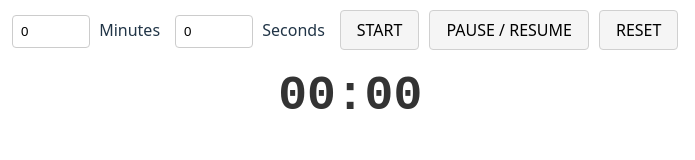
RunningClock › should handle 65 seconds as 02:05
This screenshot has width=695, height=160.
Replace the text in the number field labelled "Minutes" with "1" at (51, 32), box [12, 15, 90, 48]
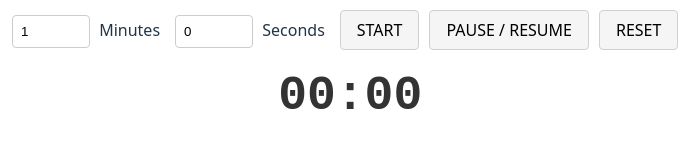
Replace the text in the number field labelled "Seconds" with "65" at (214, 32), box [175, 15, 253, 48]
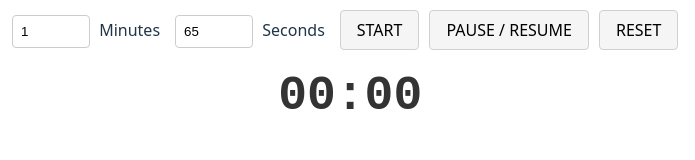
Click the button "START" at (380, 30), box [340, 10, 419, 50]
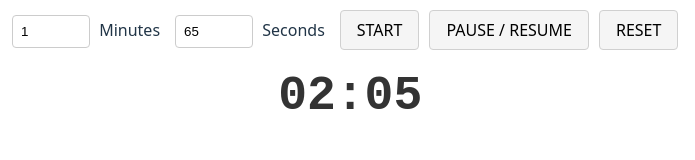
Check: the heading with test id "running-clock" reads "02:05", box [278, 69, 422, 123]
